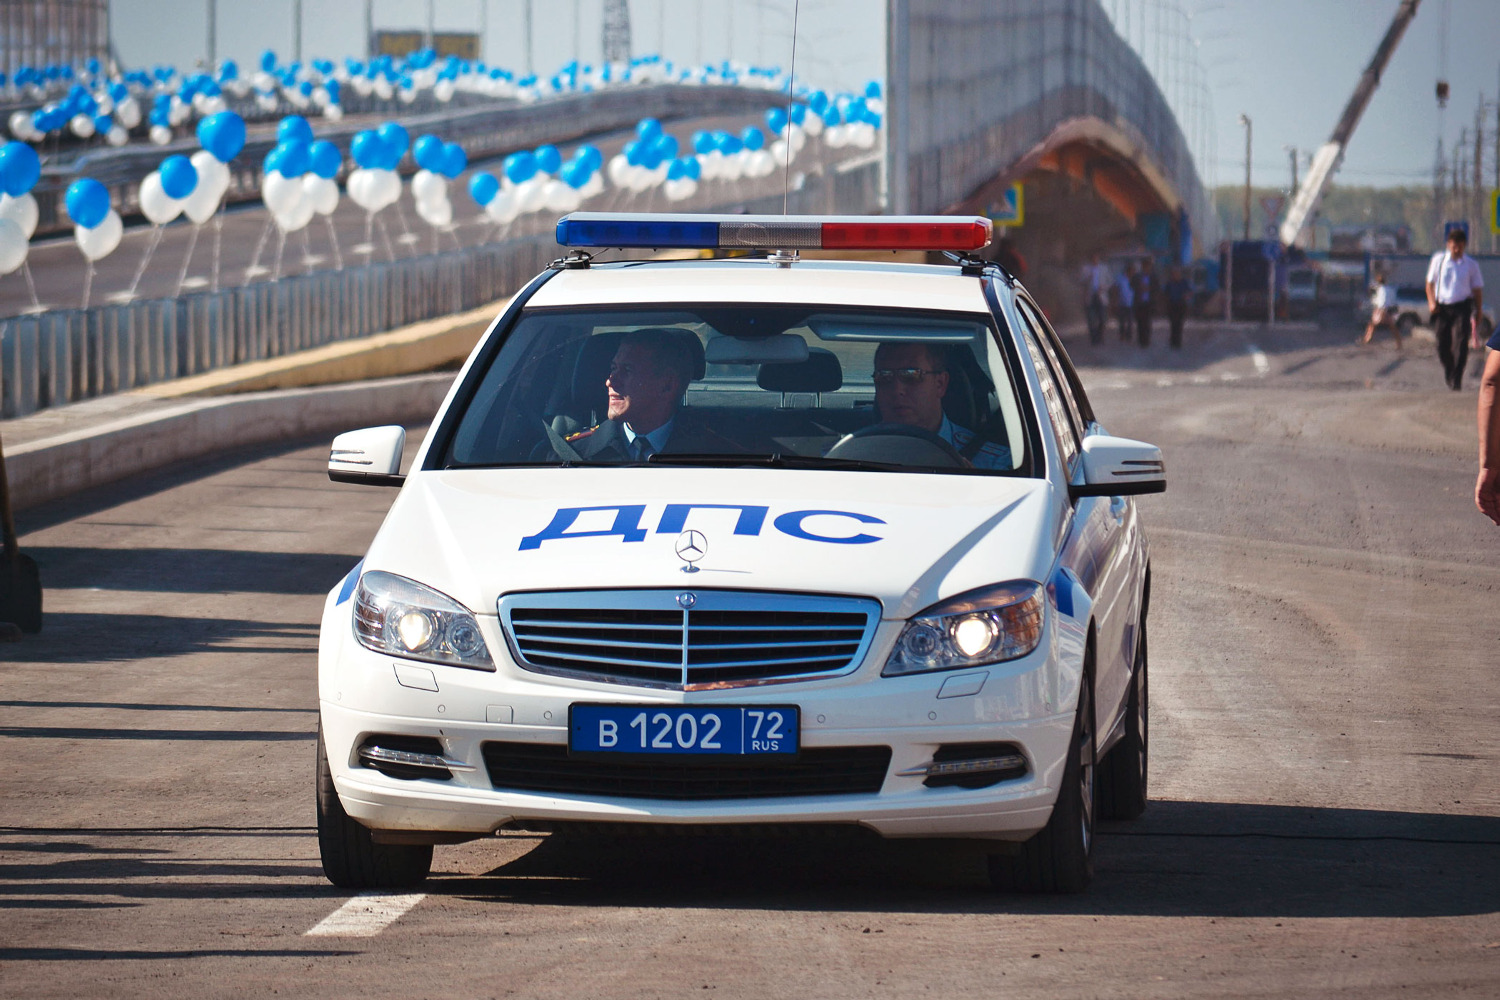special: (314, 214, 1172, 894)
